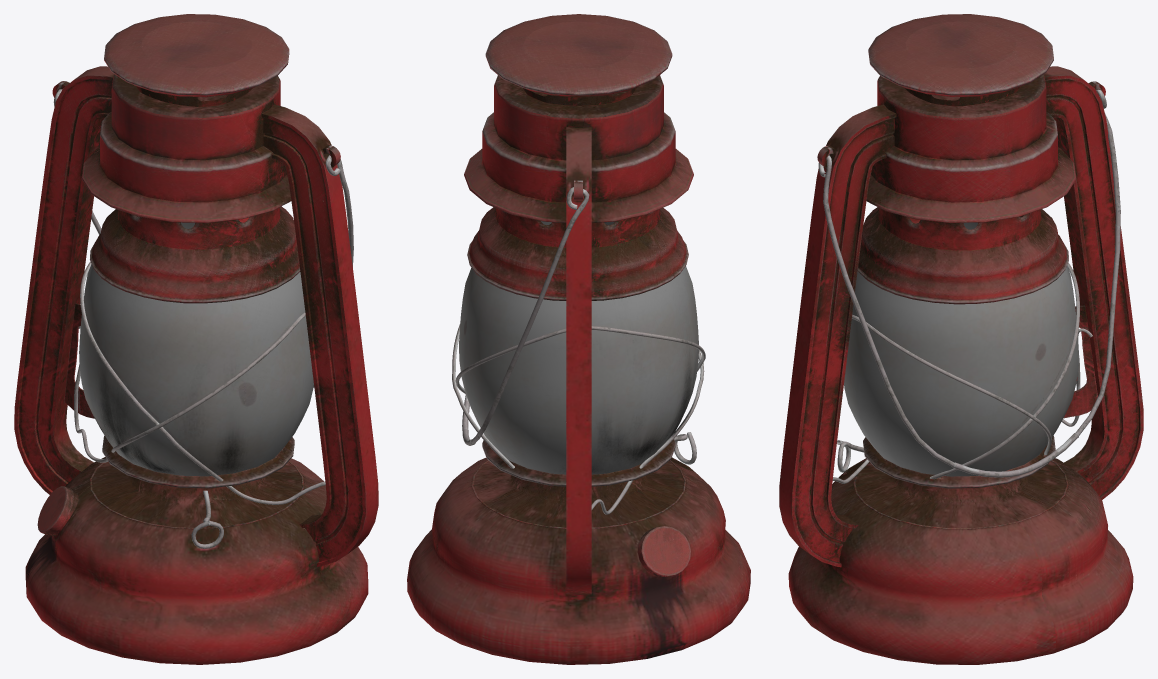
The model's file is lampa.obj.
The picture shows the model from 3 angles, left to right: view 1: azimuth 30°, elevation 25°; view 2: azimuth 150°, elevation 25°; view 3: azimuth 270°, elevation 25°; orthographic projection.
Visible parts, largest first — view 1: lantern_obj; view 2: lantern_obj; view 3: lantern_obj.
Part boxes in pixels (left/top/right/bottom): lantern_obj: left=14, top=14, right=378, bottom=664; lantern_obj: left=407, top=14, right=750, bottom=664; lantern_obj: left=779, top=14, right=1143, bottom=664.
Size of the model in its own units: 0.5285 by 0.935 by 0.5622.
1 material, 1 textured.
